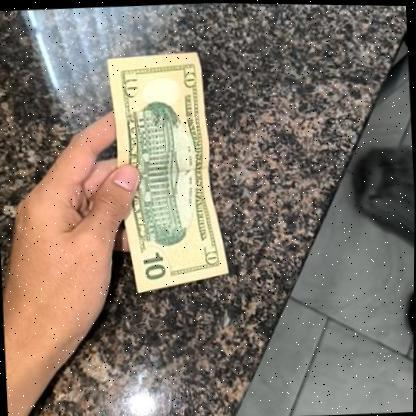dollar_back: (103, 51, 228, 294)
